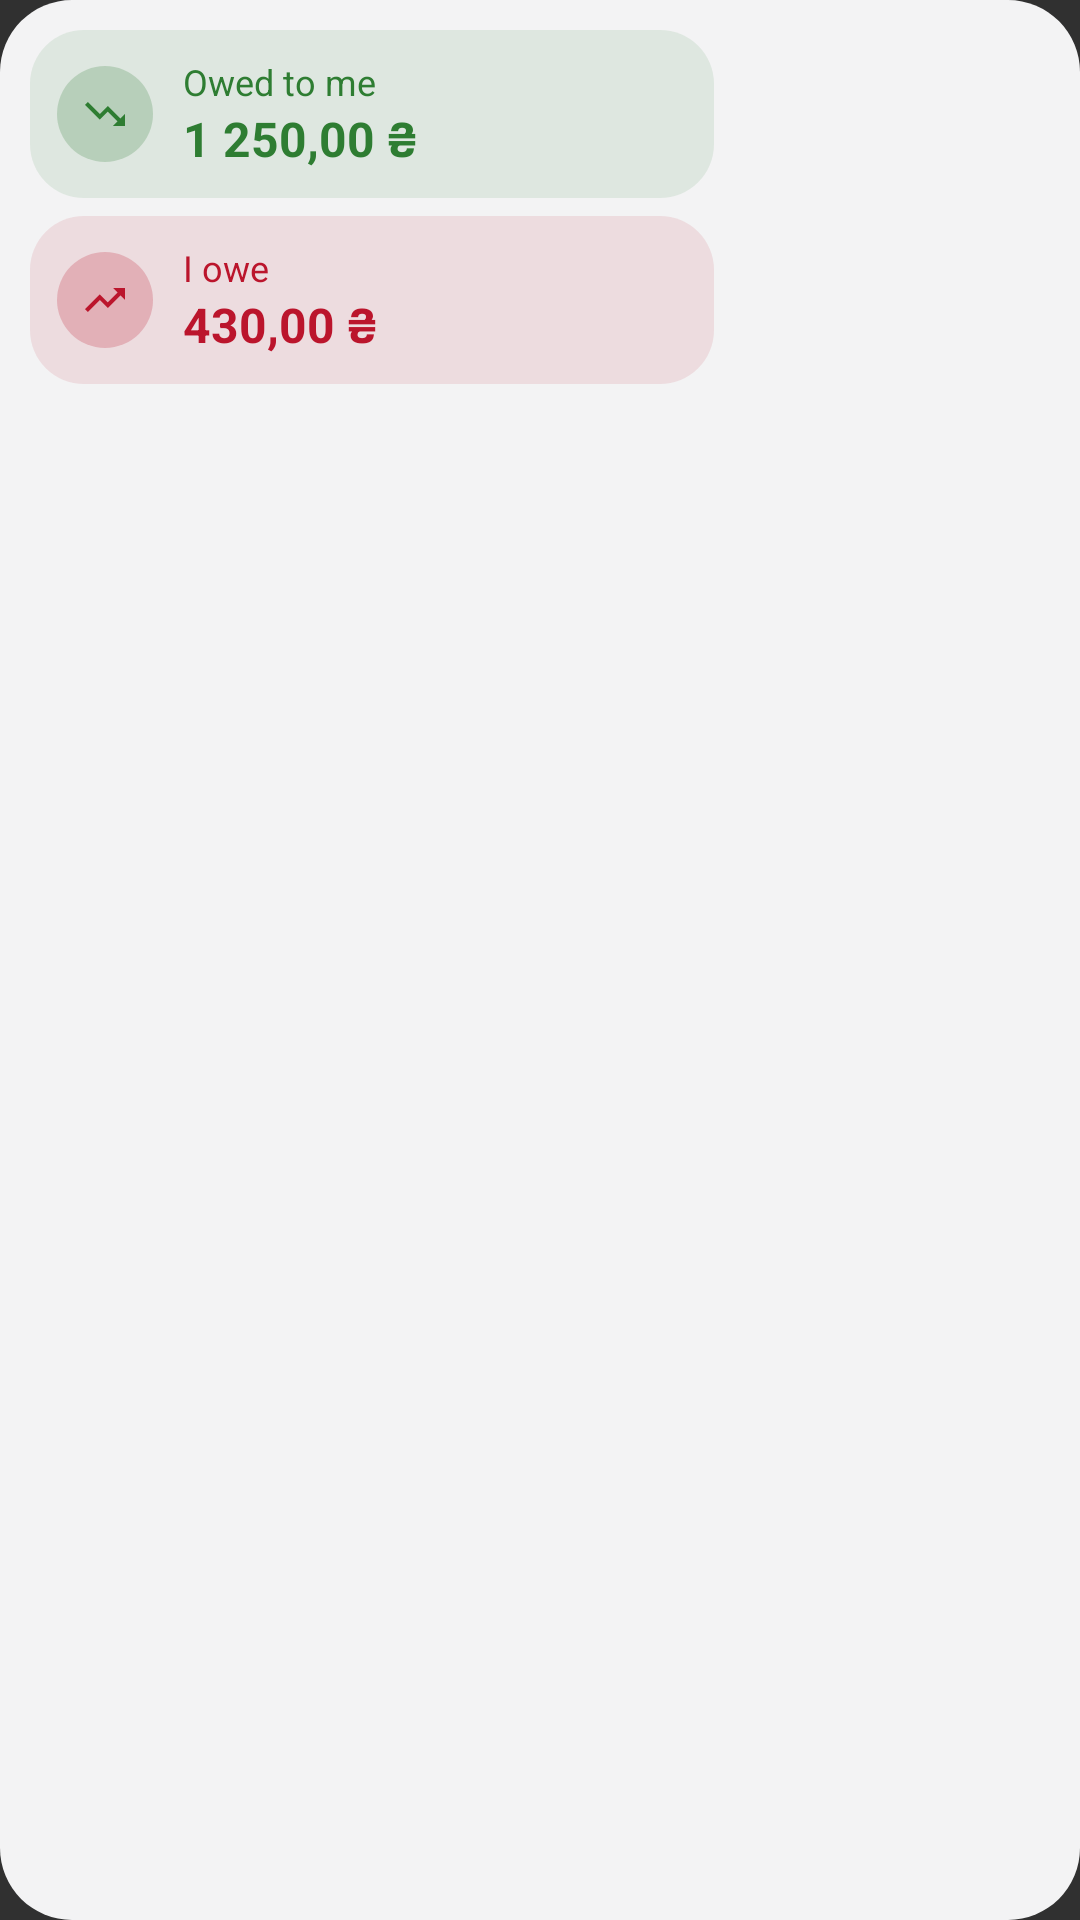

Icons on this 1080px x 1920px Android screen, each with its box as (x1, y1, x2, y2):
widget down: (85, 102, 125, 126)
widget up: (85, 288, 125, 312)
